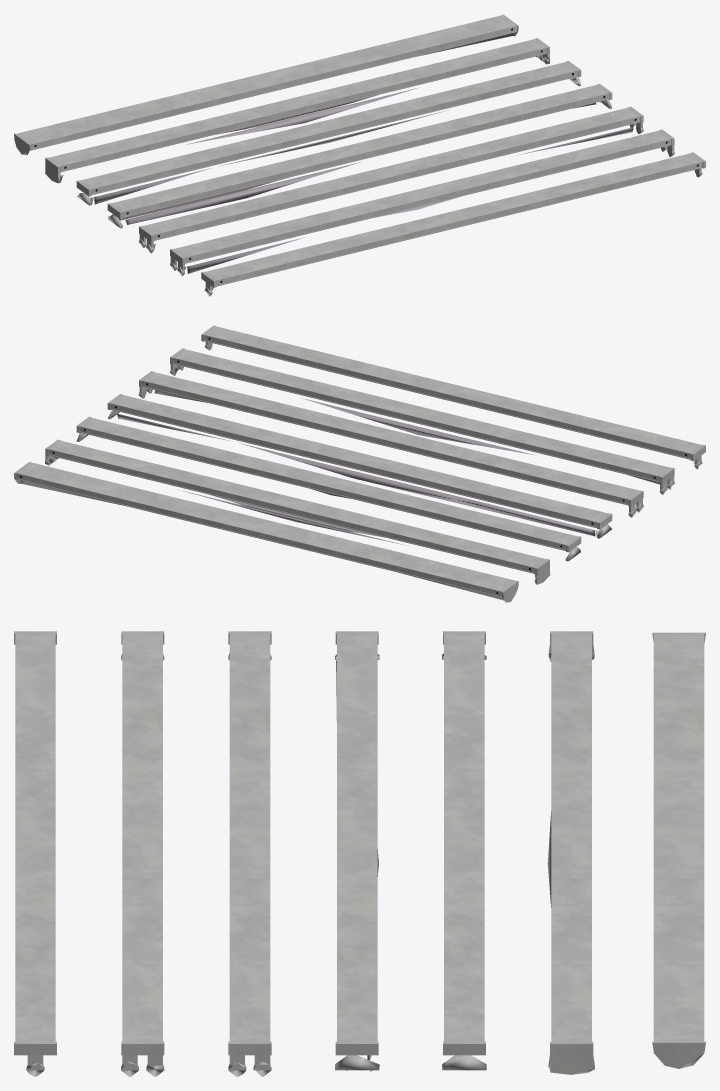
File: fluorescent_light.glb
3 views of the same model, one above another, from view 1: azimuth 30°, elevation 25°; view 2: azimuth 150°, elevation 25°; view 3: azimuth 270°, elevation 25° (orthographic). The views are drawn at different scales.
Visible parts, largest first — view 1: mounted_fluorescent_lights_a; view 2: mounted_fluorescent_lights_a; view 3: mounted_fluorescent_lights_a.
Part boxes in pixels (bbox=[...]): mounted_fluorescent_lights_a: bbox=[14, 14, 705, 296]; mounted_fluorescent_lights_a: bbox=[14, 325, 705, 602]; mounted_fluorescent_lights_a: bbox=[14, 631, 705, 1076].
Bounding box in the file's own units: 0.9122 × 0.0351 × 0.6454.
Materials: 2 (2 with a texture image).
